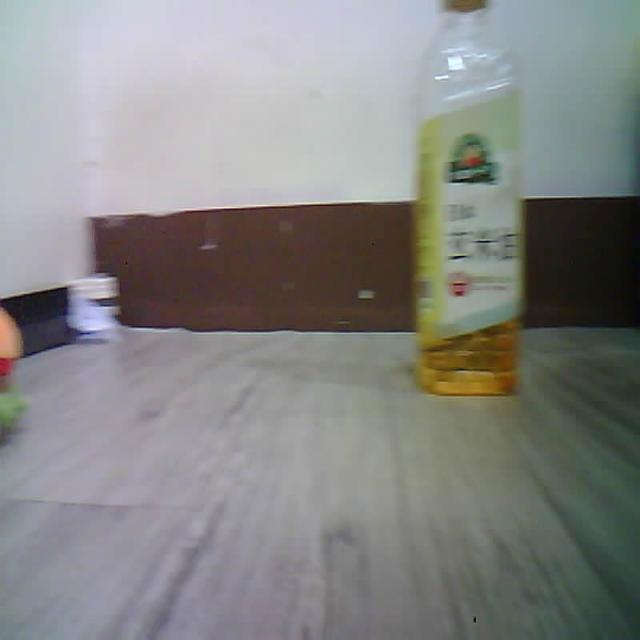bottle: (413, 0, 524, 395)
